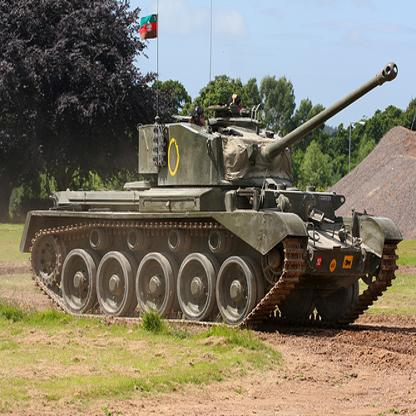Tank: (17, 106, 409, 335)
